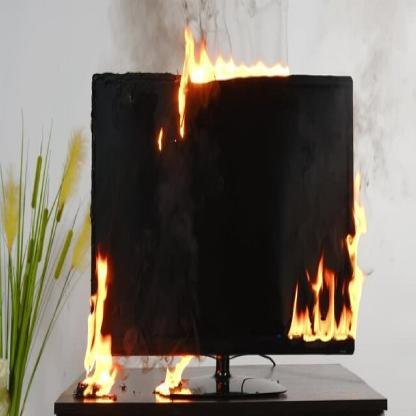fire: (290, 167, 369, 359), (169, 27, 303, 139), (75, 250, 120, 391), (151, 361, 201, 407)
smoke: (95, 0, 183, 74)
